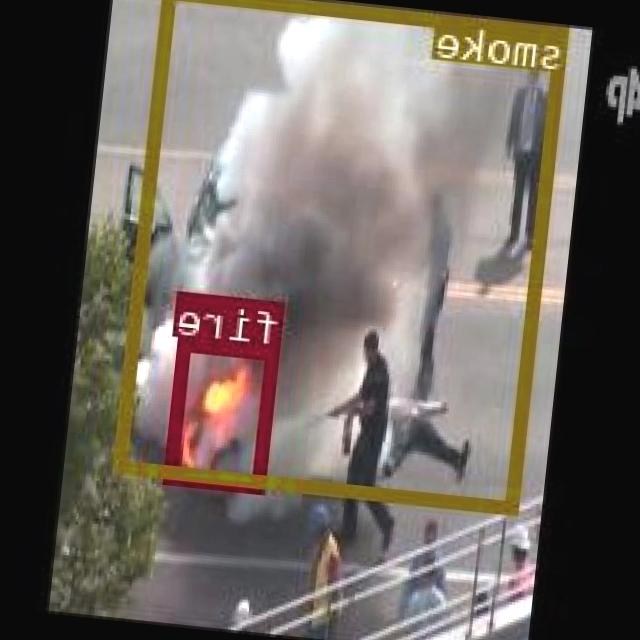fire: (166, 335, 282, 490)
smoke: (116, 0, 571, 512)
